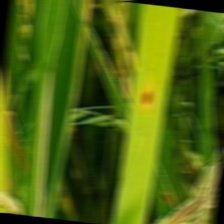Bacterial_Leaf_Blight: (137, 78, 156, 111)
